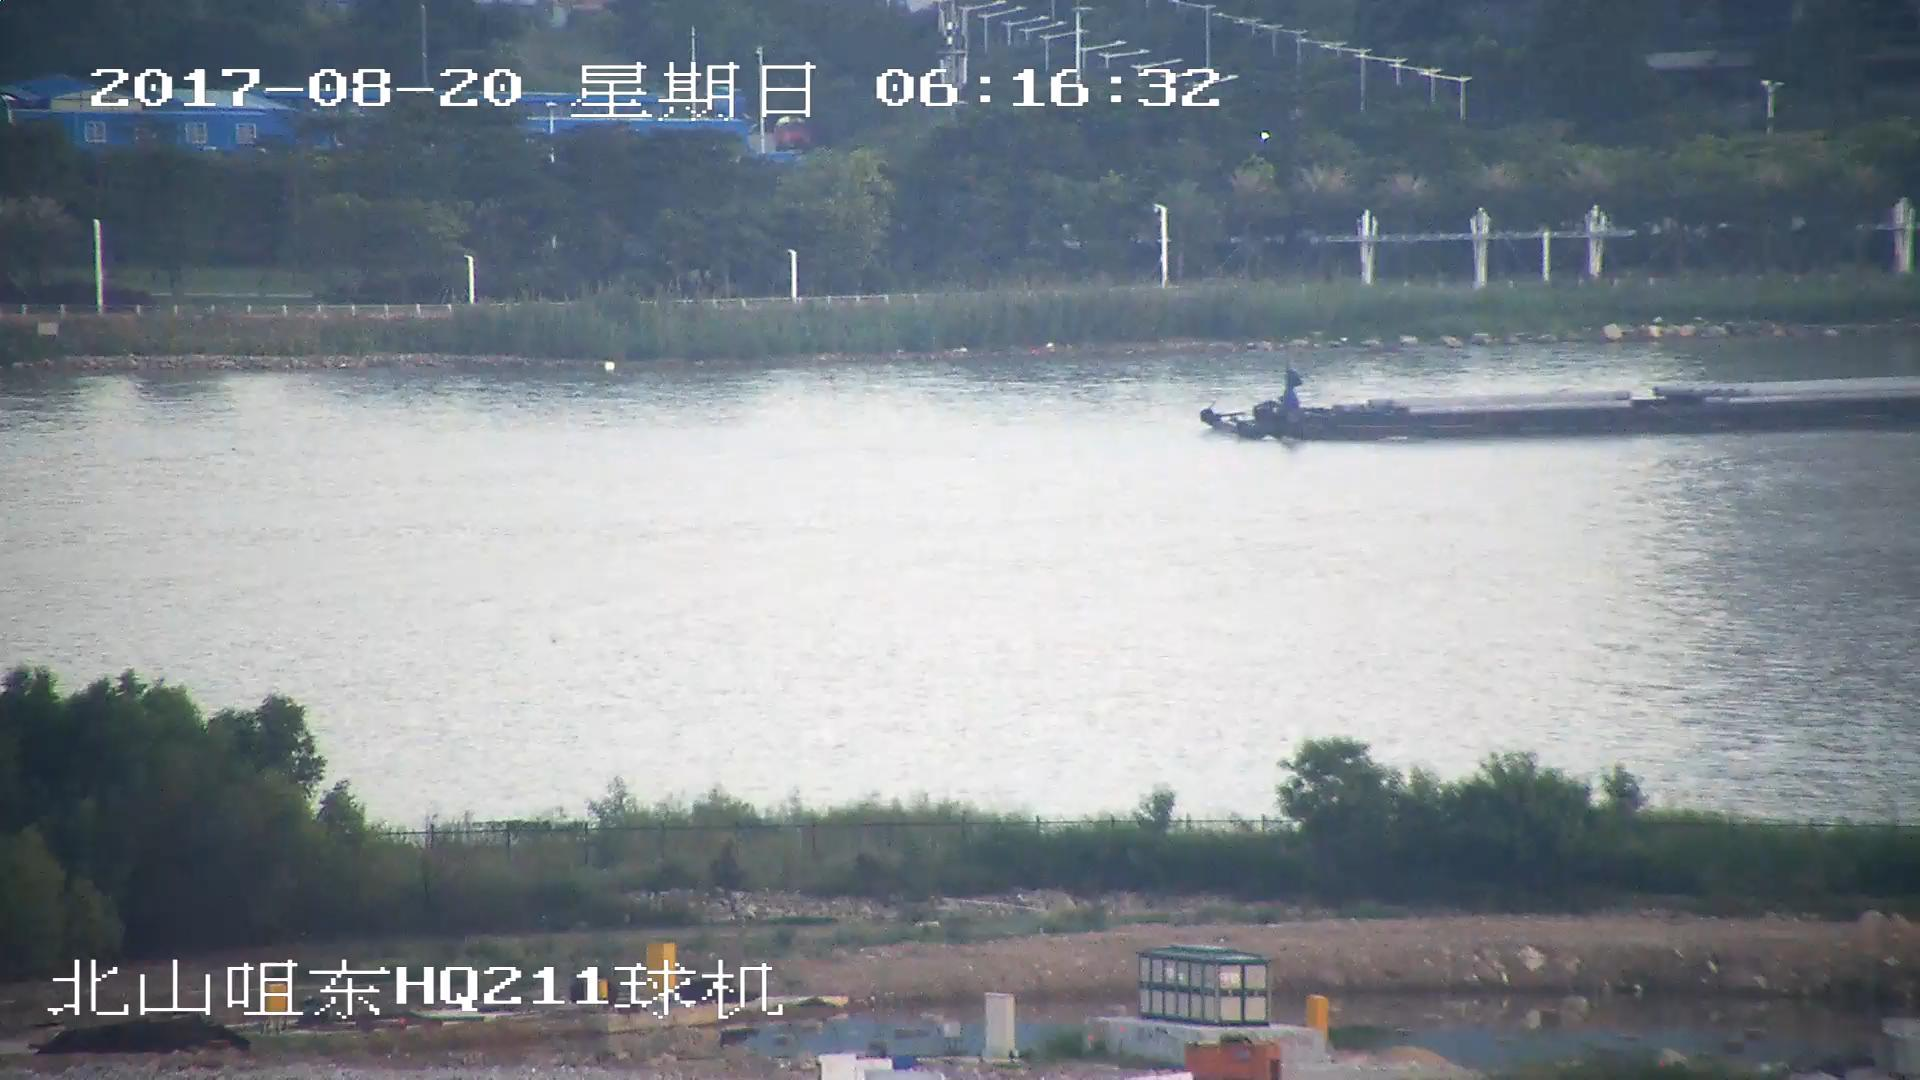Ship: (1196, 377, 1920, 440)
